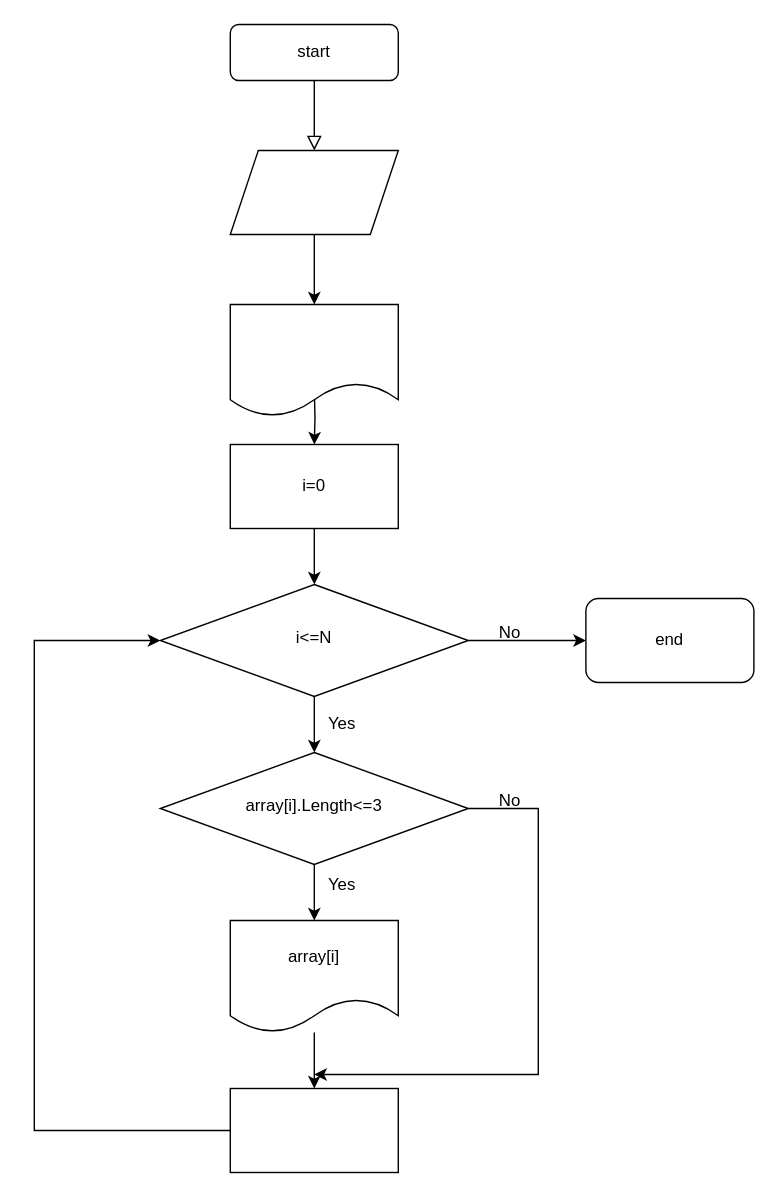
The diagram is 778 pixels wide and 1197 high, and some of its shapes have lost their labels. Each missing label, with the centre of its shape:
array[0...N] ----------------: (x=313, y=359)
i++: (x=313, y=1129)
N array[0...N]: (x=313, y=191)
